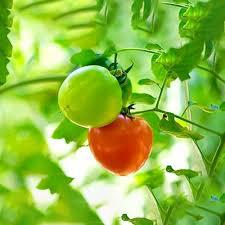tomato: (89, 116, 153, 176)
